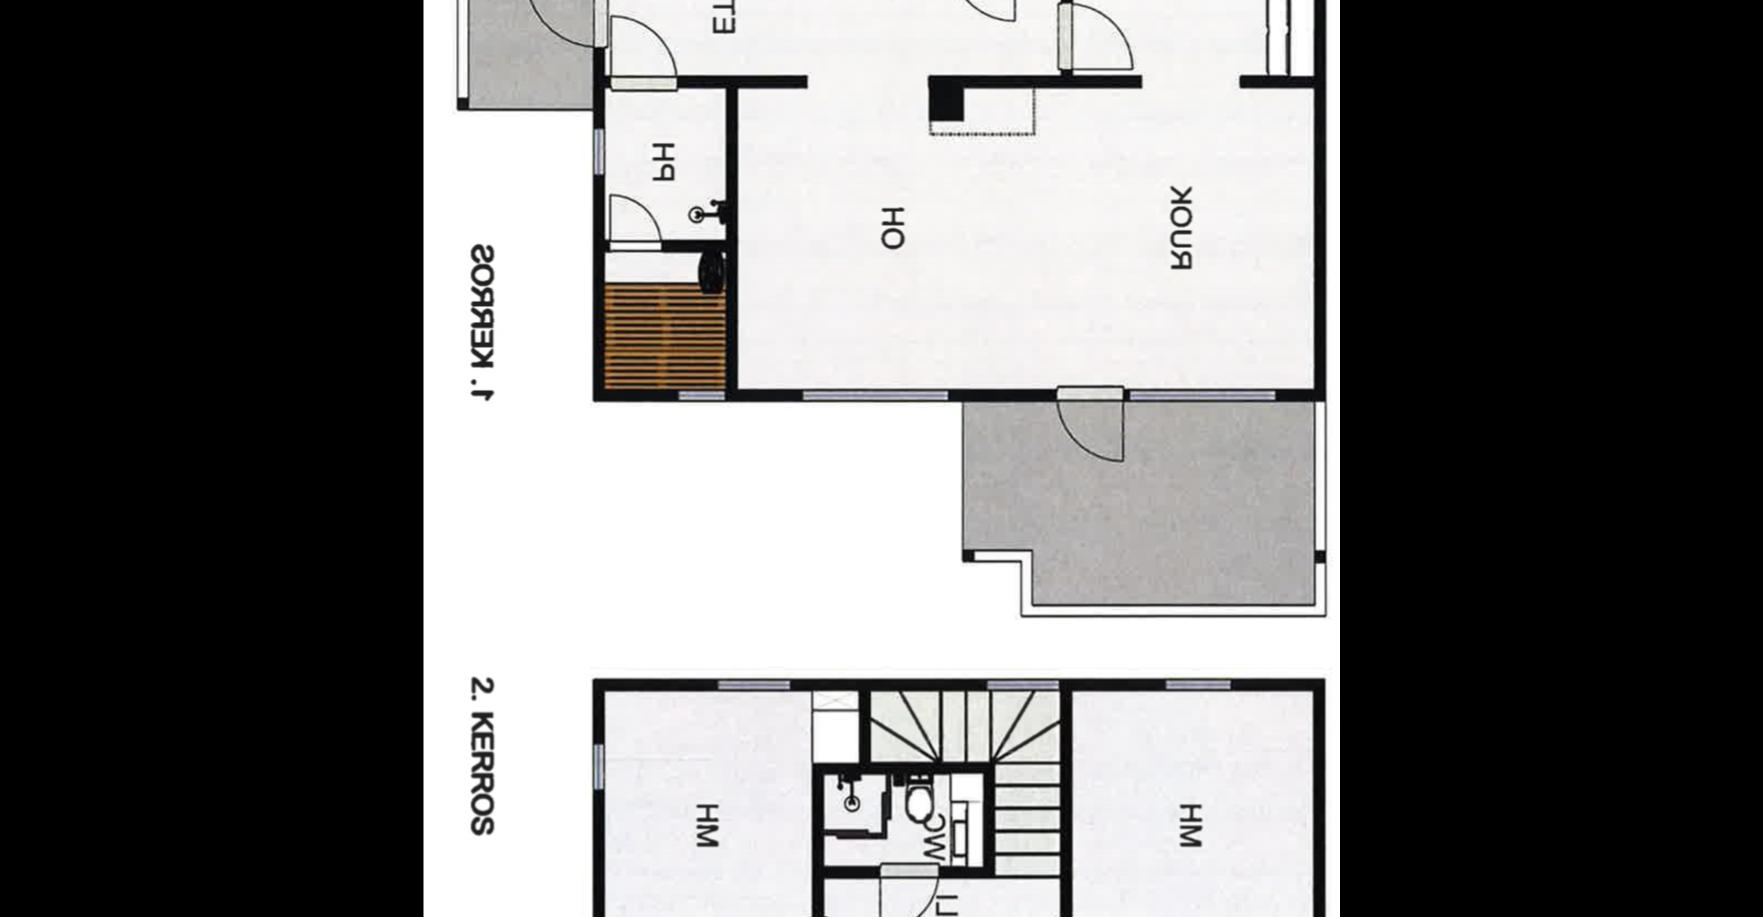bathroom: (819, 770, 989, 873)
door: (604, 8, 681, 98), (1055, 378, 1130, 468), (1052, 0, 1140, 73), (519, 0, 617, 55), (869, 855, 944, 917), (603, 187, 665, 258), (944, 0, 1020, 24)
perimeter: (461, 0, 1329, 402), (587, 674, 1327, 917)
stairs: (866, 689, 1066, 765), (990, 685, 1065, 878)
window: (795, 381, 954, 409), (1121, 383, 1280, 409), (711, 672, 793, 700), (1156, 672, 1238, 699), (976, 673, 1065, 696), (583, 734, 611, 799), (672, 385, 733, 407), (589, 119, 611, 181)
